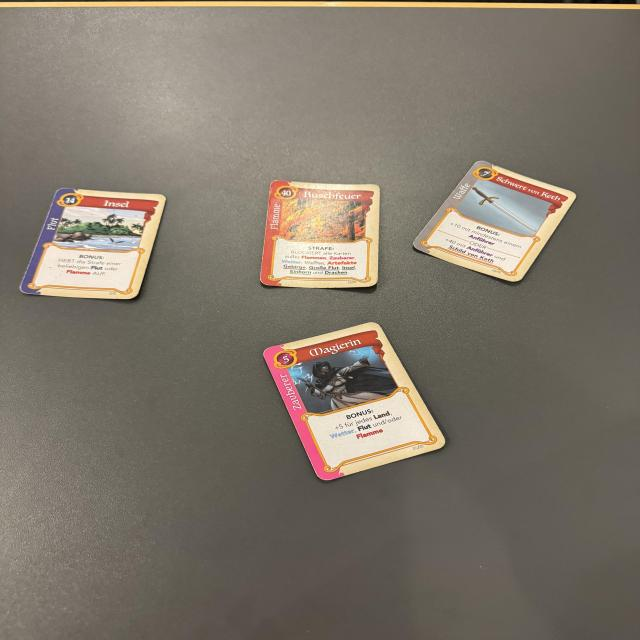Elemental Enchantress: (255, 319, 458, 487)
Island: (16, 189, 168, 300)
Sword of Keth: (408, 155, 581, 286)
Wildfire: (259, 180, 381, 287)
